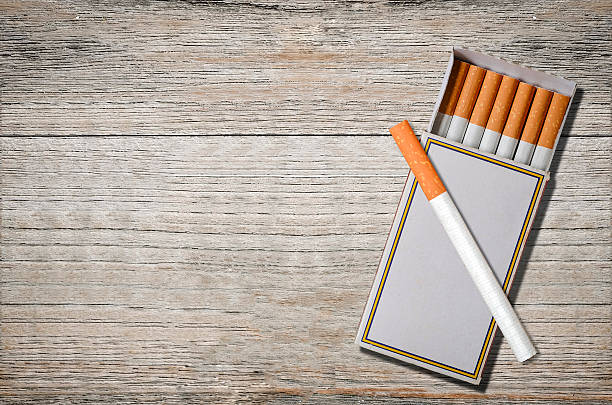cigarette: (353, 51, 576, 386), (387, 118, 538, 364), (444, 62, 488, 145), (477, 73, 520, 157), (511, 86, 556, 166), (495, 80, 538, 162), (461, 68, 504, 149), (529, 90, 572, 171), (429, 58, 471, 140)
